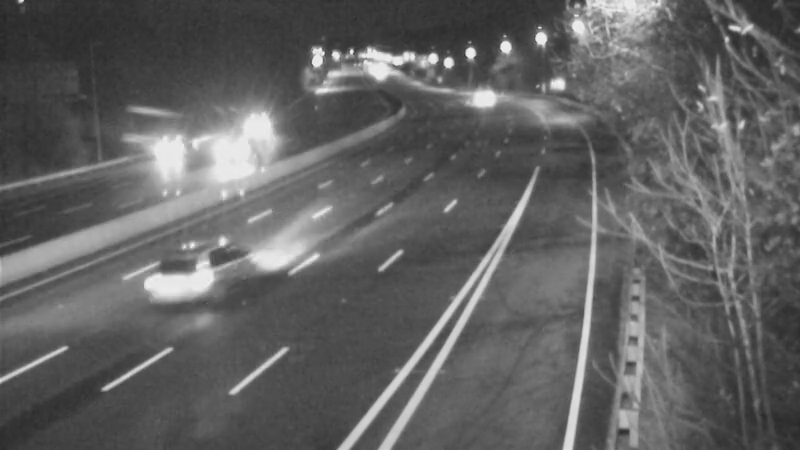vehicle: (164, 227, 244, 307), (121, 113, 201, 193), (190, 119, 270, 199), (453, 70, 503, 120), (231, 106, 281, 156)
